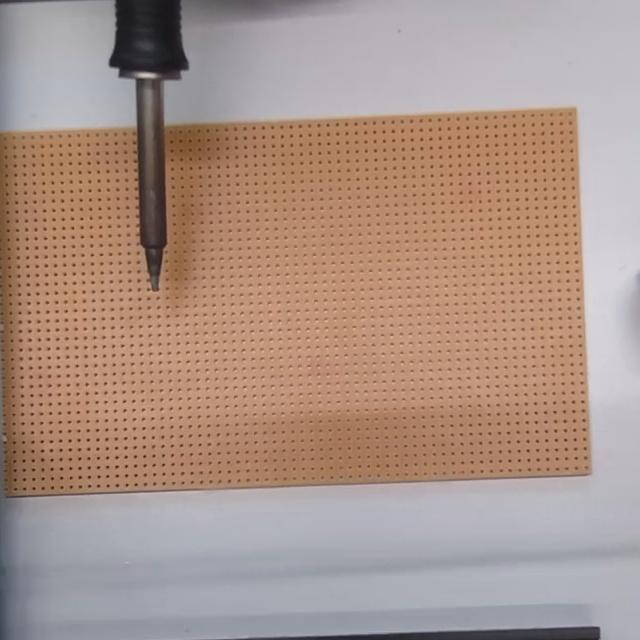soldering_iron: (98, 0, 203, 293)
